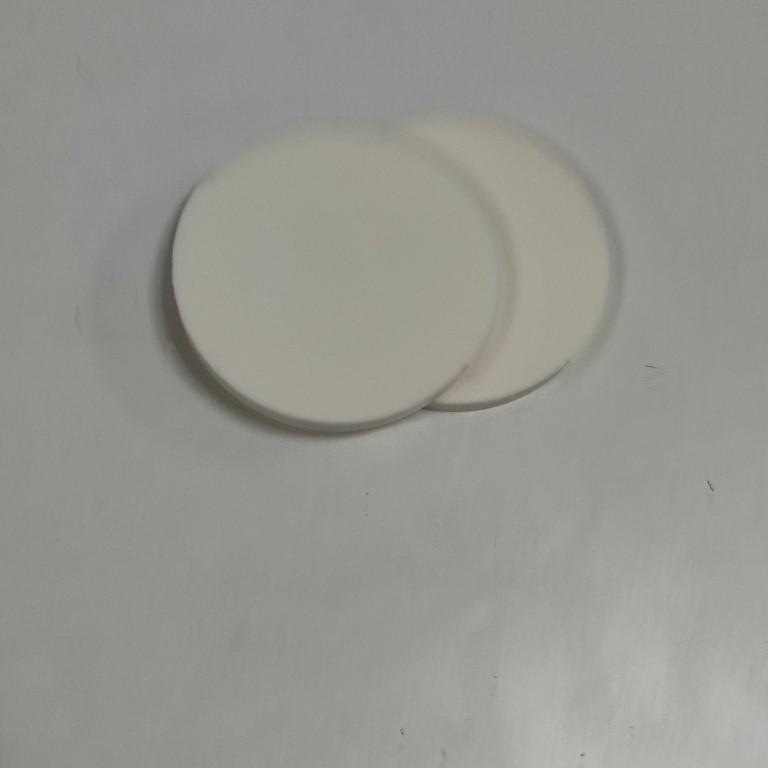ceramics: (158, 103, 620, 444)
